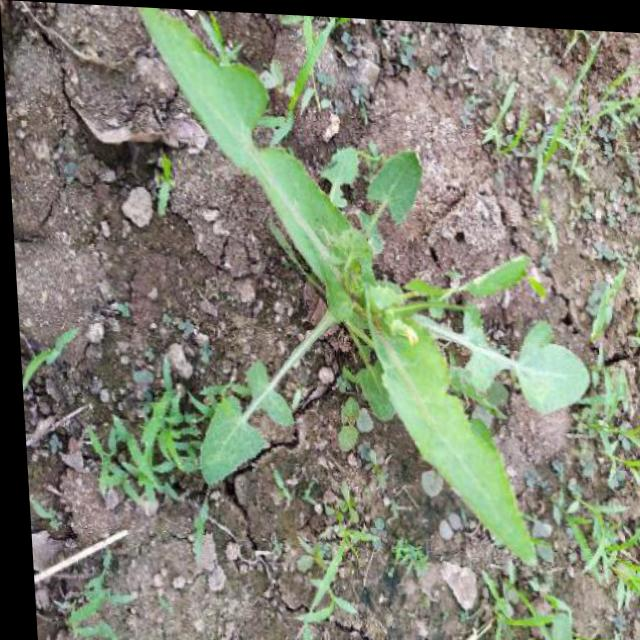weed: (73, 4, 603, 610)
